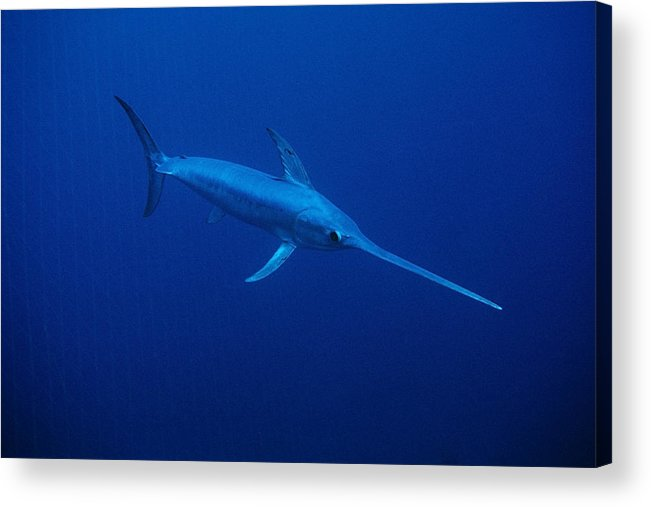swordfish: (101, 85, 506, 325)
